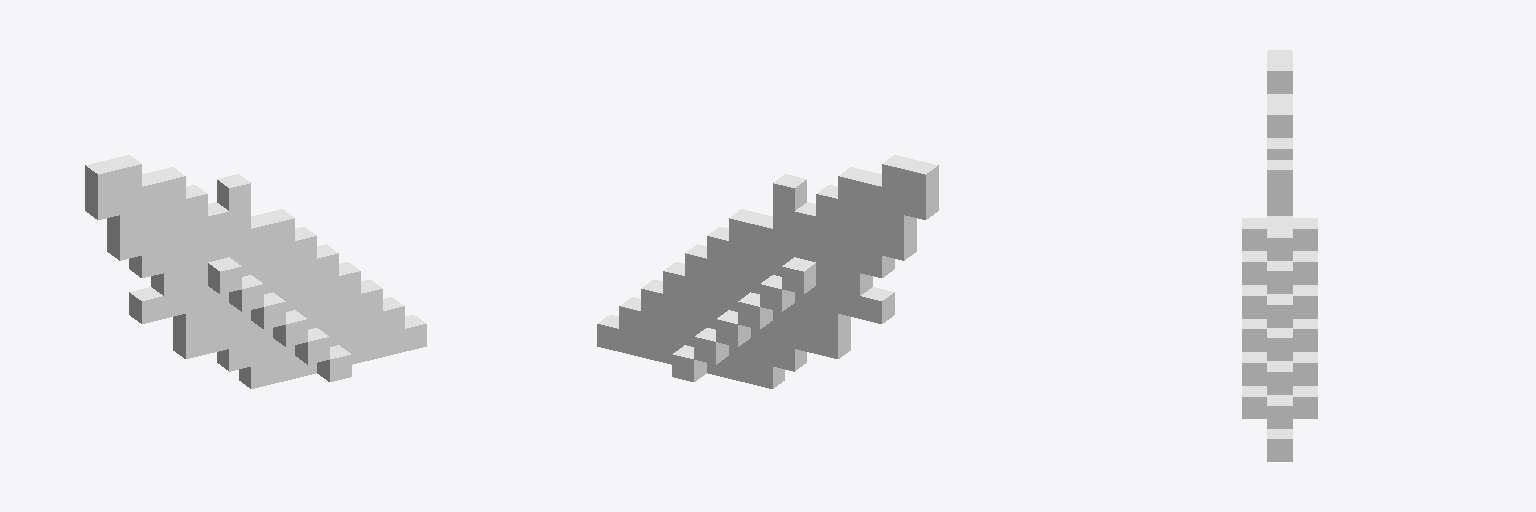
Rendered from espada.obj.
3 views of the same model, side by side, from view 1: azimuth 30°, elevation 25°; view 2: azimuth 150°, elevation 25°; view 3: azimuth 270°, elevation 25° (orthographic).
Visible parts, largest first — view 1: object 1; view 2: object 1; view 3: object 1.
Boxes of the visible parts, x1=… form: object 1: x1=85, y1=155, x2=426, y2=388; object 1: x1=597, y1=155, x2=938, y2=388; object 1: x1=1242, y1=50, x2=1317, y2=461.
Size of the model in its own units: 1.5 by 1.1 by 0.3.